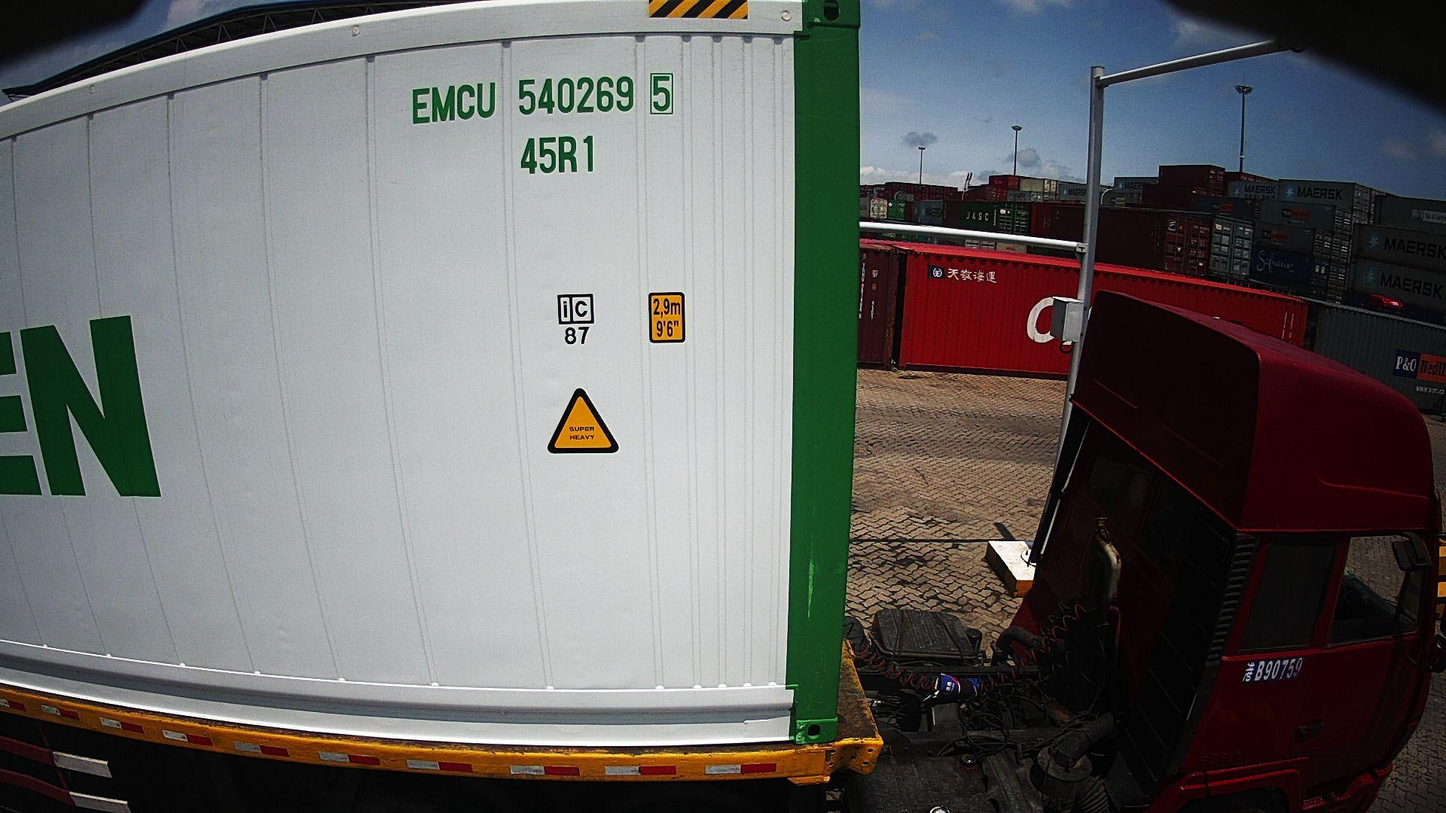container-numbers: (410, 71, 679, 126), (517, 133, 599, 178)
